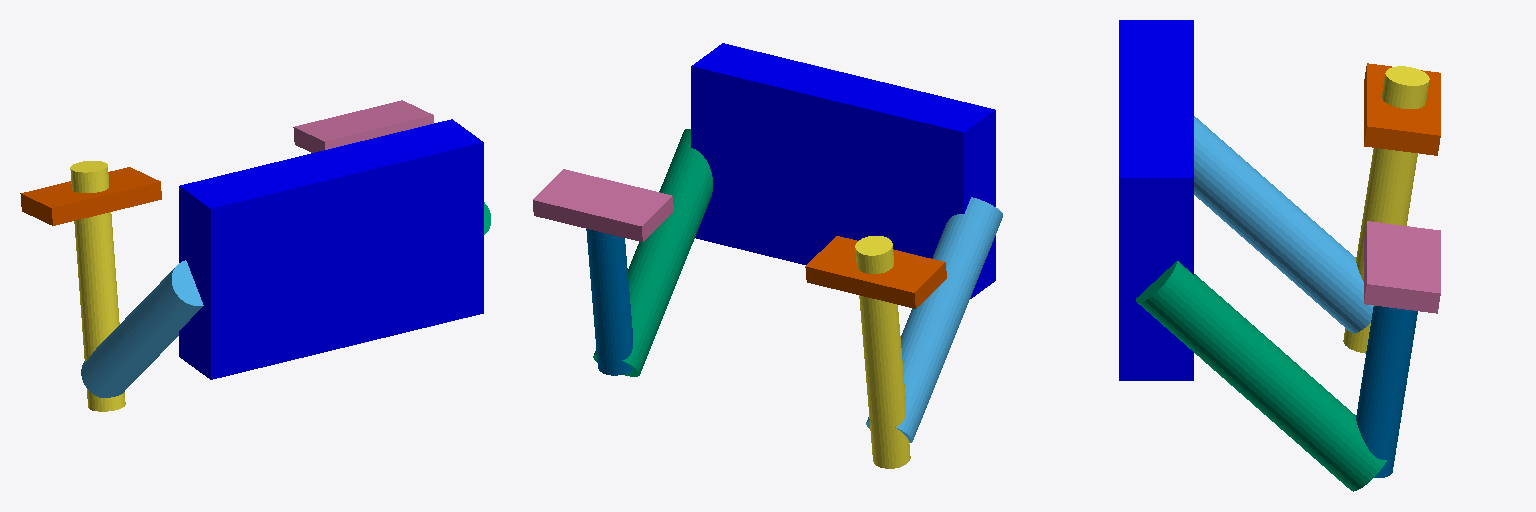
The robot description file, URDF, robot "pair_of_arms":
<?xml version="1.0"?>

<robot name="pair_of_arms">

    <link name="base_link">
    <inertial>
        <origin xyz="0 0 0" rpy="0 0 0"/>
        <mass value="10.0"/>
        <inertia ixx="1" iyy="1" izz="1" ixy="0" ixz="0" iyz="0"/>
    </inertial>
    <visual>
        <origin xyz="0 0 0" rpy="0 0 0"/>
        <geometry>
        <box size="0.5 0.1 0.3"/>
        </geometry>
        <material name="blue">
        <color rgba="0 0 1 1"/>
        </material>
    </visual>
    <collision>
        <origin xyz="0 0 0" rpy="0 0 0"/>
        <geometry>
        <box size="0.5 0.1 0.3"/>
        </geometry>
    </collision>
    </link>


    <!-- Left Shoulder Joint -->
    <joint name="left_shoulder_joint" type="revolute">
        <parent link="base_link"/>
        <child link="left_upper_arm"/>
        <origin xyz="-0.25 0 0" rpy="0.8 0 0"/> <!-- Offset the shoulder outward from the center line -->
        <axis xyz="0 0 1"/>
        <limit lower="-3.14" upper="3.14" effort="100.0" velocity="0.5"/>
    </joint>

    <!-- Right Shoulder Joint -->
    <joint name="right_shoulder_joint" type="revolute">
        <parent link="base_link"/>
        <child link="right_upper_arm"/>
        <origin xyz="0.25 0 0" rpy="0.8 0 0"/> <!-- Offset the shoulder outward from the center line -->
        <axis xyz="0 0 1"/>
        <limit lower="-3.14" upper="3.14" effort="100.0" velocity="0.5"/>
    </joint>


    <!-- Left Upper Arm -->
    <link name="left_upper_arm">
        <inertial>
            <origin xyz="0 0 -0.2" rpy="0 0 0"/> <!-- Offset to center the cylinder along the Z-axis -->
            <mass value="2.0"/>
            <inertia ixx="0.02" iyy="0.02" izz="0.02" ixy="0" ixz="0" iyz="0"/>
        </inertial>
        <visual>
            <origin xyz="0 0 -0.2" rpy="0 0 0"/>
            <geometry>
                <cylinder radius="0.04" length="0.4"/>
            </geometry>
        </visual>
        <collision>
            <origin xyz="0 0 -0.2" rpy="0 0 0"/>
            <geometry>
                <cylinder radius="0.04" length="0.4"/>
            </geometry>
        </collision>
    </link>

    <!-- Right Upper Arm -->
    <link name="right_upper_arm">
        <inertial>
            <origin xyz="0 0 -0.2" rpy="0 0 0"/> <!-- Offset to center the cylinder along the Z-axis -->
            <mass value="2.0"/>
            <inertia ixx="0.02" iyy="0.02" izz="0.02" ixy="0" ixz="0" iyz="0"/>
        </inertial>
        <visual>
            <origin xyz="0 0 -0.2" rpy="0 0 0"/>
            <geometry>
                <cylinder radius="0.04" length="0.4"/>
            </geometry>
        </visual>
        <collision>
            <origin xyz="0 0 -0.2" rpy="0 0 0"/>
            <geometry>
                <cylinder radius="0.04" length="0.4"/>
            </geometry>
        </collision>
    </link>


    <!-- Left Elbow Joint -->
    <joint name="left_elbow_joint" type="revolute">
    <parent link="left_upper_arm"/>
    <child link="left_forearm"/> <!-- Forearm link defined in subsequent steps -->
    <origin xyz="0 0 -0.4" rpy="2.2 0 0"/> <!-- At the end of the upper arm -->
    <axis xyz="0 1 0"/> <!-- Rotate around the Y-axis -->
    <limit lower="0" upper="3.14" effort="100.0" velocity="1.0"/>
    </joint>

    <!-- Right Elbow Joint -->
    <!-- Duplicate of left_elbow_joint with names and references adjusted for the right arm -->
    <joint name="right_elbow_joint" type="revolute">
    <parent link="right_upper_arm"/>
    <child link="right_forearm"/> <!-- Forearm link defined in subsequent steps -->
    <origin xyz="0 0 -0.4" rpy="2.2 0 0"/> <!-- At the end of the upper arm -->
    <axis xyz="0 1 0"/> <!-- Rotate around the Y-axis -->
    <limit lower="0" upper="3.14" effort="100.0" velocity="1.0"/>
    </joint>

    <!-- Left Forearm Link -->
    <link name="left_forearm">
    <inertial>
        <origin xyz="0 0 -0.15" rpy="0 0 0"/>
        <mass value="1.5"/>
        <inertia ixx="0.015" iyy="0.015" izz="0.015" ixy="0" ixz="0" iyz="0"/>
    </inertial>
    <visual>
        <origin xyz="0 0 -0.15" rpy="0 0 0"/>
        <geometry>
        <cylinder radius="0.03" length="0.4"/>
        </geometry>
    </visual>
    <collision>
        <origin xyz="0 0 -0.15" rpy="0 0 0"/>
        <geometry>
        <cylinder radius="0.03" length="0.4"/>
        </geometry>
    </collision>
    </link>

    <!-- Right Forearm Link -->
    <!-- Similar to left_forearm but mirrored for the right side -->
    <link name="right_forearm">
    <inertial>
        <origin xyz="0 0 -0.15" rpy="0 0 0"/>
        <mass value="1.5"/>
        <inertia ixx="0.015" iyy="0.015" izz="0.015" ixy="0" ixz="0" iyz="0"/>
    </inertial>
    <visual>
        <origin xyz="0 0 -0.15" rpy="0 0 0"/>
        <geometry>
        <cylinder radius="0.03" length="0.3"/>
        </geometry>
    </visual>
    <collision>
        <origin xyz="0 0 -0.15" rpy="0 0 0"/>
        <geometry>
        <cylinder radius="0.03" length="0.3"/>
        </geometry>
    </collision>
    </link>


    <!-- Left Wrist Joint -->
    <joint name="left_wrist_joint" type="continuous">
    <parent link="left_forearm"/>
    <child link="left_hand"/> <!-- Hand link defined in the next step -->
    <origin xyz="0 0 -0.3" rpy="0 0 0"/> <!-- At the end of the forearm -->
    <axis xyz="0 0 1"/> <!-- Rotate around the Z-axis -->
    </joint>

    <!-- Right Wrist Joint -->
    <!-- Similar to left_wrist_joint but for the right forearm to right hand connection -->
    <joint name="right_wrist_joint" type="continuous">
    <parent link="right_forearm"/>
    <child link="right_hand"/> <!-- Hand link defined in the next step -->
    <origin xyz="0 0 -0.3" rpy="0 0 0"/> <!-- At the end of the forearm -->
    <axis xyz="0 0 1"/> <!-- Rotate around the Z-axis -->
    </joint>


    <!-- Left Hand Link -->
    <link name="left_hand">
    <inertial>
        <origin xyz="0 0 0" rpy="0 0 0"/>
        <mass value="0.5"/>
        <inertia ixx="0.005" iyy="0.005" izz="0.005" ixy="0" ixz="0" iyz="0"/>
    </inertial>
    <visual>
        <origin xyz="0 0 0" rpy="0 0 0"/>
        <geometry>
        <box size="0.2 0.1 0.03"/>
        </geometry>
    </visual>
    <collision>
        <origin xyz="0 0 0" rpy="0 0 0"/>
        <geometry>
        <box size="0.2 0.1 0.03"/>
        </geometry>
    </collision>
    </link>

    <!-- Right Hand Link -->
    <!-- Similar to left_hand but mirrored for the right side -->
    <link name="right_hand">
    <inertial>
        <origin xyz="0 0 0" rpy="0 0 0"/>
        <mass value="0.5"/>
        <inertia ixx="0.005" iyy="0.005" izz="0.005" ixy="0" ixz="0" iyz="0"/>
    </inertial>
    <visual>
        <origin xyz="0 0 0" rpy="0 0 0"/>
        <geometry>
        <box size="0.2 0.1 0.03"/>
        </geometry>
    </visual>
    <collision>
        <origin xyz="0 0 0" rpy="0 0 0"/>
        <geometry>
        <box size="0.2 0.1 0.03"/>
        </geometry>
    </collision>
    </link>

</robot>

--- Render facts (derived) ---
3 views of the same robot in one strip: view 1: azimuth 30°, elevation 25°; view 2: azimuth 150°, elevation 25°; view 3: azimuth 270°, elevation 25° (orthographic).
Model pair_of_arms with 7 links and 6 joints (4 revolute, 2 continuous), rooted at base_link, posed every joint at zero.
Visible links, largest first — view 1: base_link, left_upper_arm, left_forearm, left_hand, right_hand; view 2: base_link, left_upper_arm, right_upper_arm, left_forearm, right_hand, left_hand, right_forearm; view 3: base_link, right_upper_arm, left_upper_arm, right_forearm, right_hand, left_forearm, left_hand.
Link boxes in pixels (x1=…): base_link: x1=179, y1=119, x2=483, y2=379; left_upper_arm: x1=81, y1=260, x2=203, y2=397; left_forearm: x1=70, y1=161, x2=125, y2=411; left_hand: x1=20, y1=167, x2=161, y2=225; right_hand: x1=293, y1=100, x2=433, y2=152; base_link: x1=691, y1=43, x2=995, y2=298; left_upper_arm: x1=866, y1=197, x2=1002, y2=442; right_upper_arm: x1=593, y1=129, x2=712, y2=376; left_forearm: x1=855, y1=236, x2=910, y2=468; right_hand: x1=533, y1=169, x2=673, y2=241; left_hand: x1=805, y1=236, x2=946, y2=308; right_forearm: x1=586, y1=229, x2=632, y2=375; base_link: x1=1119, y1=20, x2=1193, y2=380; right_upper_arm: x1=1136, y1=261, x2=1386, y2=491; left_upper_arm: x1=1194, y1=116, x2=1373, y2=333; right_forearm: x1=1356, y1=306, x2=1417, y2=477; right_hand: x1=1364, y1=221, x2=1440, y2=313; left_forearm: x1=1343, y1=66, x2=1429, y2=353; left_hand: x1=1364, y1=63, x2=1440, y2=155.
Size in the robot's own frame: 0.7 by 0.4309 by 0.4824 metres.
Geometry: primitives only (box / cylinder / sphere), no mesh files.